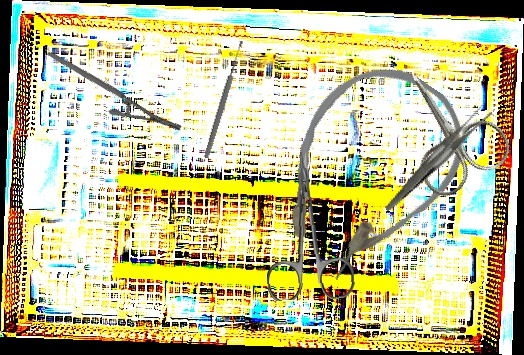Cannula: (244, 40, 489, 303)
Dressing Forceps: (363, 102, 511, 212)
Iris Scissors: (373, 49, 518, 204), (262, 150, 356, 301)
Needle Holder: (46, 17, 185, 165)
Surgical Spoon: (202, 40, 246, 159)
